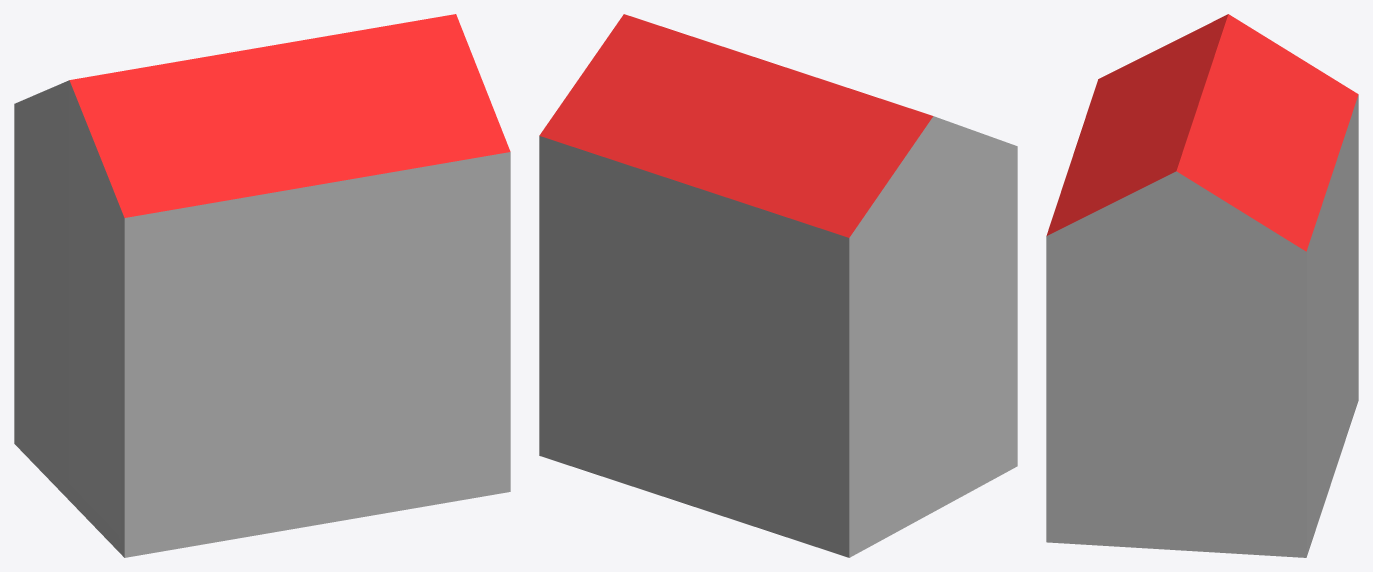
The model's file is DEBY_LOD2_4727203.dae.
The picture shows the model from 3 angles, left to right: view 1: azimuth 30°, elevation 25°; view 2: azimuth 150°, elevation 25°; view 3: azimuth 270°, elevation 25°; orthographic projection. The views are drawn at different scales.
Size of the model in its own units: 15.15 by 11.58 by 15.51.
